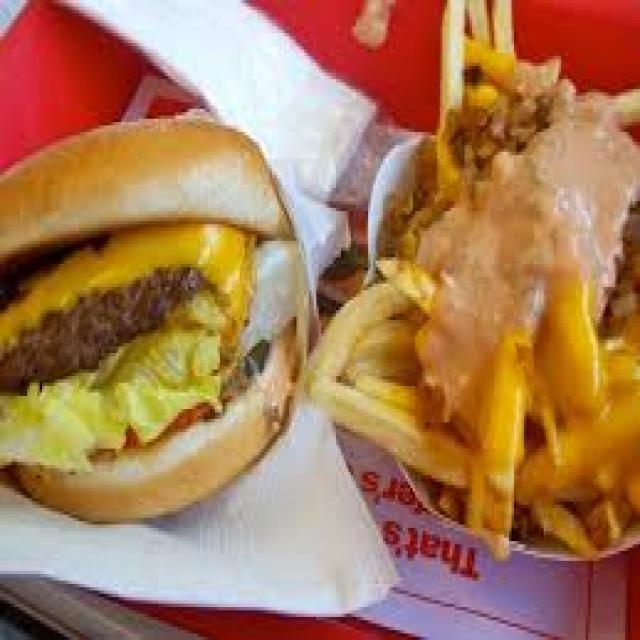Burger: (0, 92, 303, 535)
